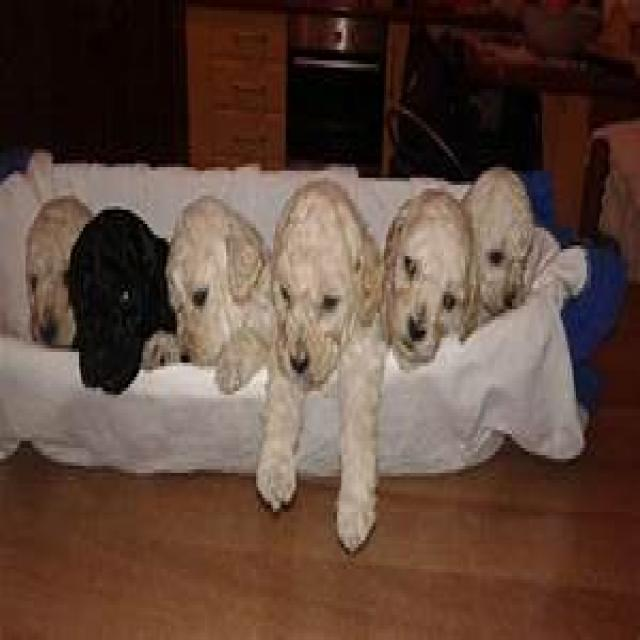dog: (256, 181, 388, 558), (143, 196, 277, 395), (384, 188, 518, 373), (64, 210, 175, 398), (467, 167, 563, 334)
